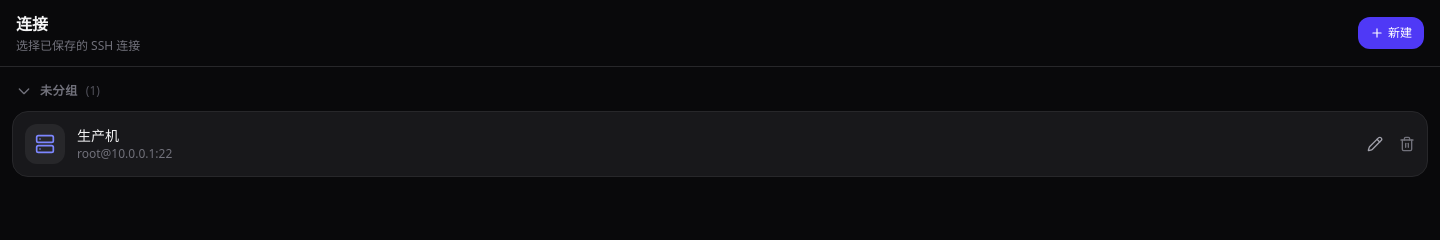
Scenario: 已保存密码被拒后重新追问 › 别的原因（网络不通等）不追问密码，照实显示红条
The image size is (1440, 240).
Click the button "生产机 root@10.0.0.1:22" at {"x": 45, "y": 144}, box [13, 112, 1359, 176]
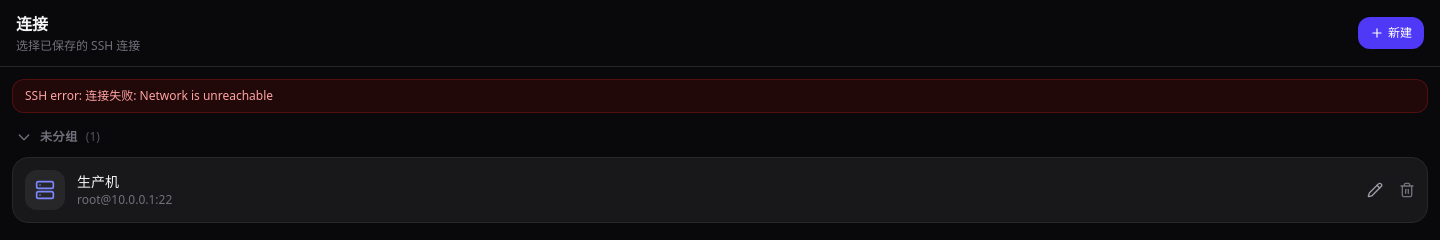
Expected: the text "Network is unreachable" is shown, [25, 87, 273, 104]
